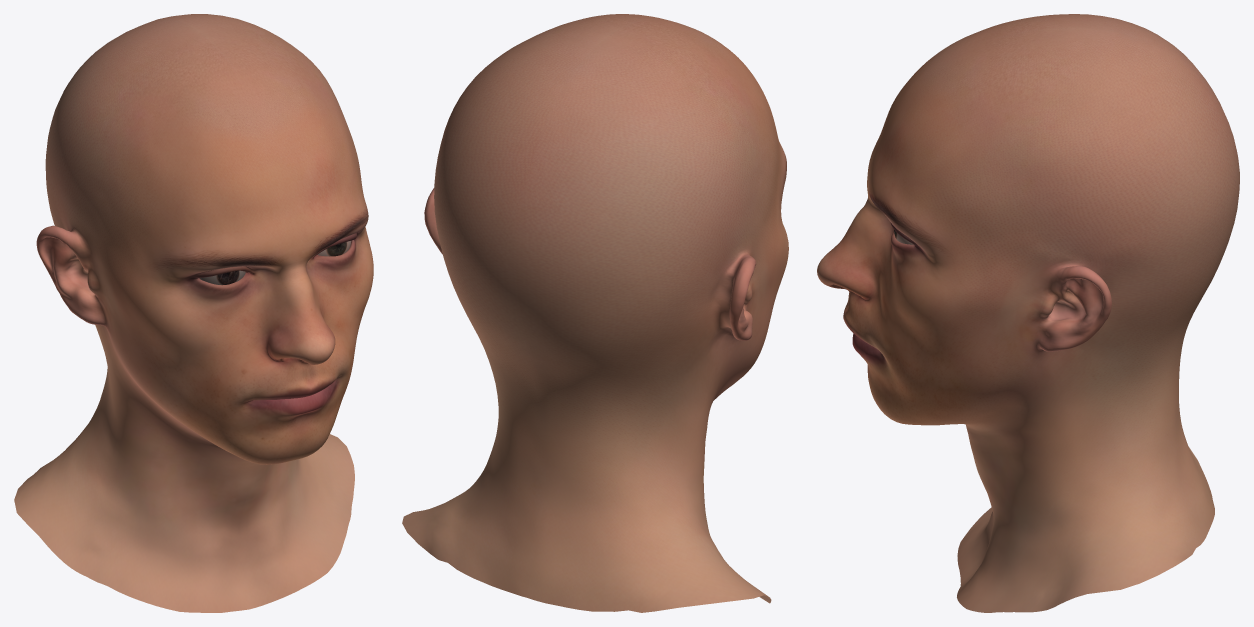
3 renders of one model, left to right at view 1: azimuth 30°, elevation 25°; view 2: azimuth 150°, elevation 25°; view 3: azimuth 270°, elevation 25°, orthographic. The views are drawn at different scales.
Visible parts, largest first — view 1: Registered head; view 2: Registered head; view 3: Registered head.
Boxes of the visible parts, box(x1,y1,x2,y2) form: Registered head: box(14, 14, 373, 612); Registered head: box(402, 14, 788, 612); Registered head: box(817, 14, 1239, 612).
Size of the model in its own units: 1.21 by 1.93 by 1.33.
Materials: 3 (3 with a texture image).
